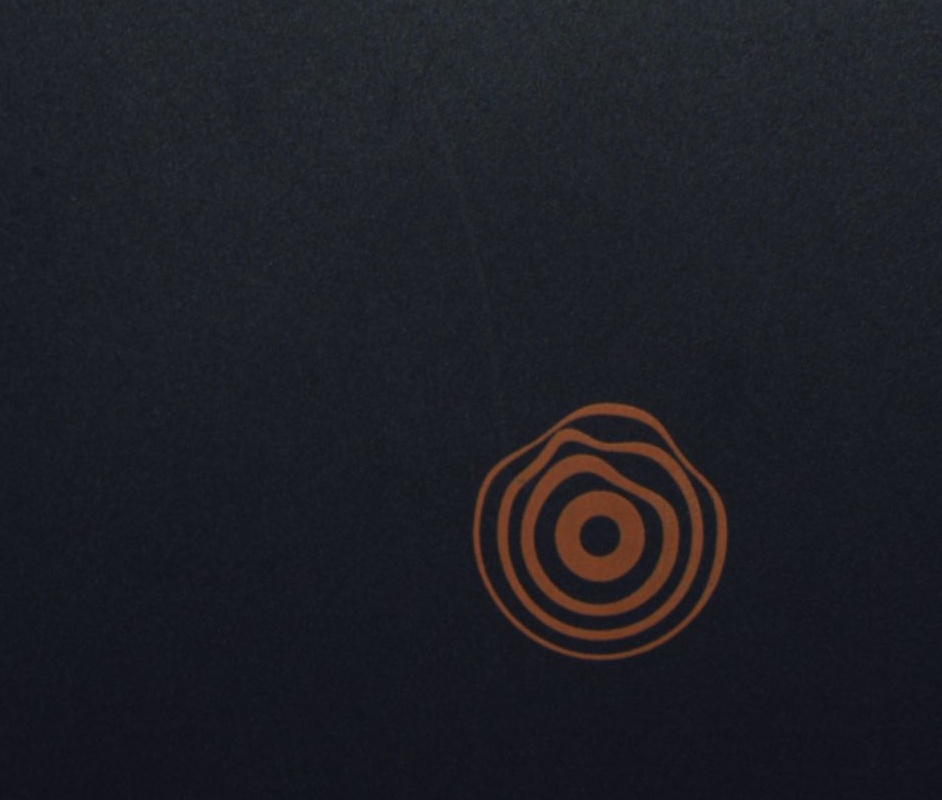BU_HG680GY: (468, 396, 734, 666)
